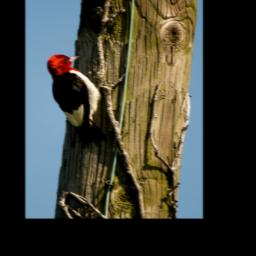Woodpecker: (46, 54, 115, 149)
